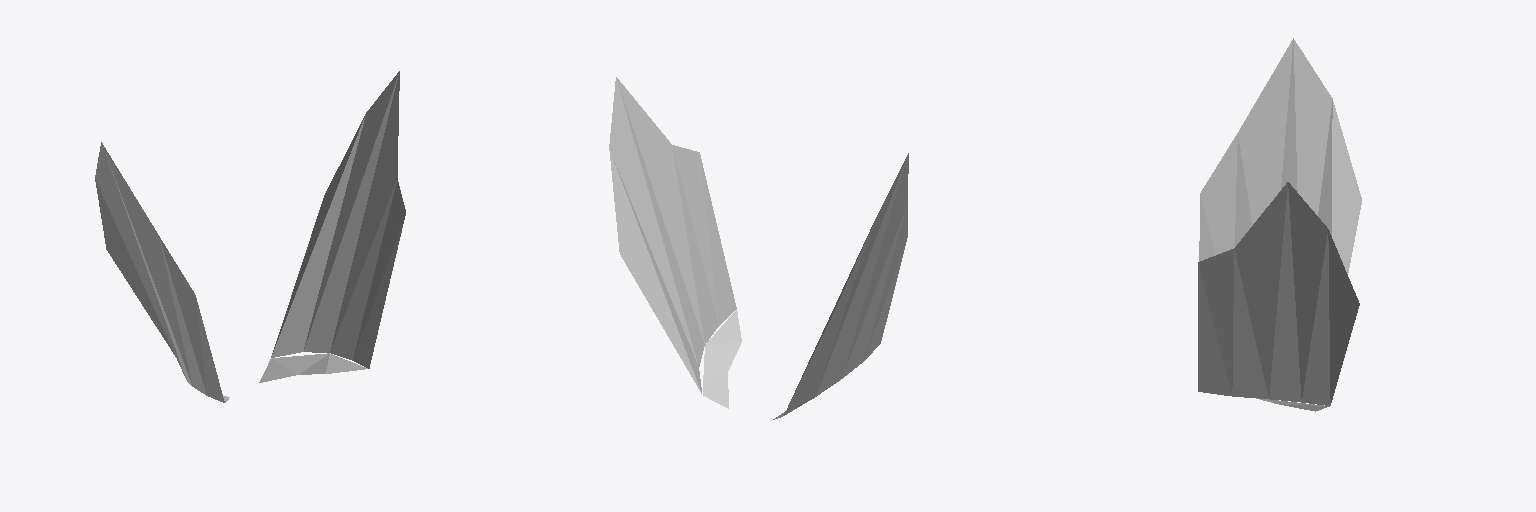
File: wings_000002.obj
3 renders of one model, left to right at view 1: azimuth 30°, elevation 25°; view 2: azimuth 150°, elevation 25°; view 3: azimuth 270°, elevation 25°, orthographic.
Parts seen in each view (by area): view 1: Plane; view 2: Plane; view 3: Plane.
Part boxes in pixels (x1,y1,x2,y2): Plane: (95, 71, 405, 402); Plane: (609, 77, 908, 419); Plane: (1198, 38, 1361, 411).
Size of the model in its own units: 8.97 by 8.5 by 4.32.